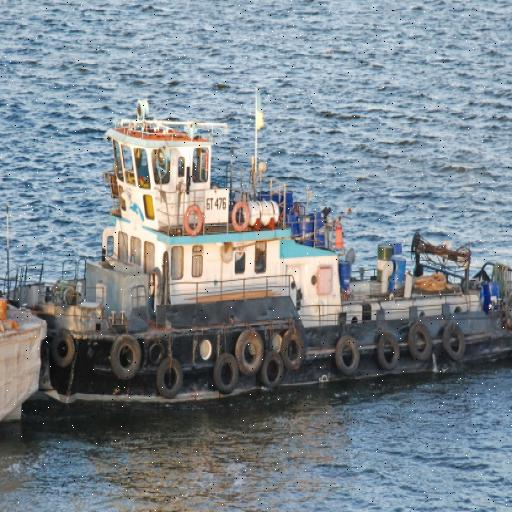tugboat: (1, 94, 512, 426)
